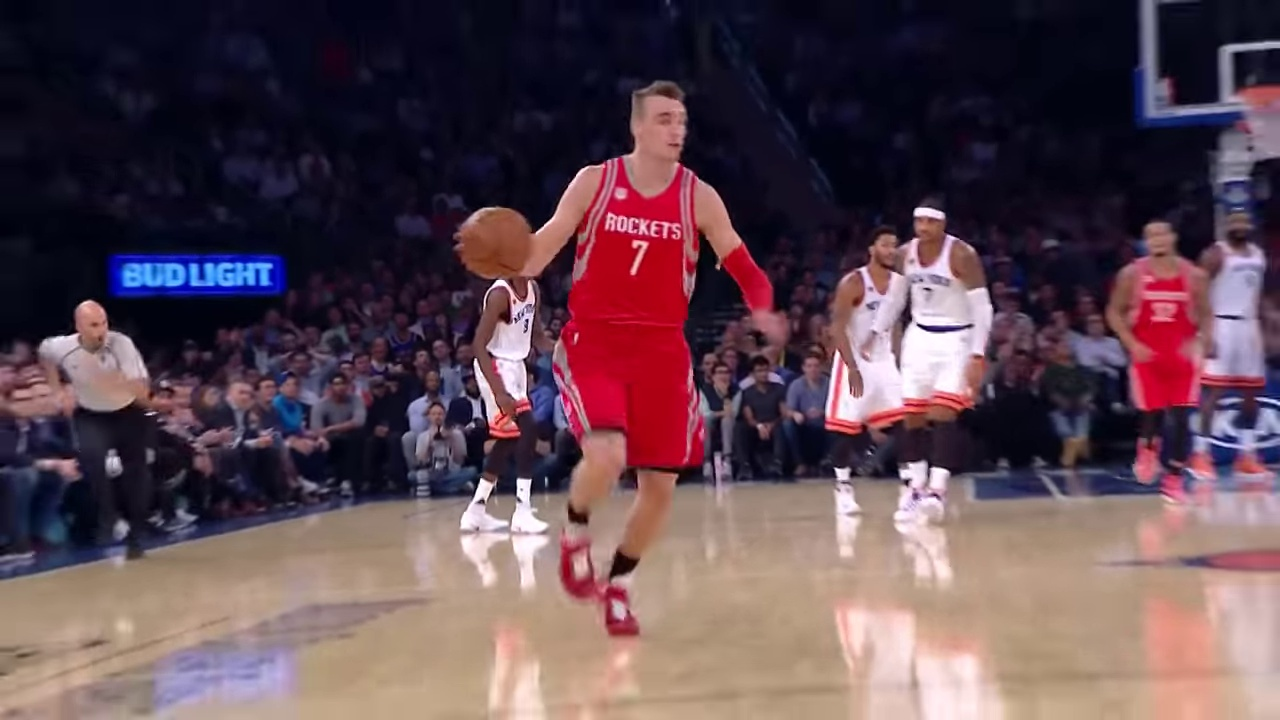bola: (455, 202, 538, 282)
person: (452, 80, 789, 603)
